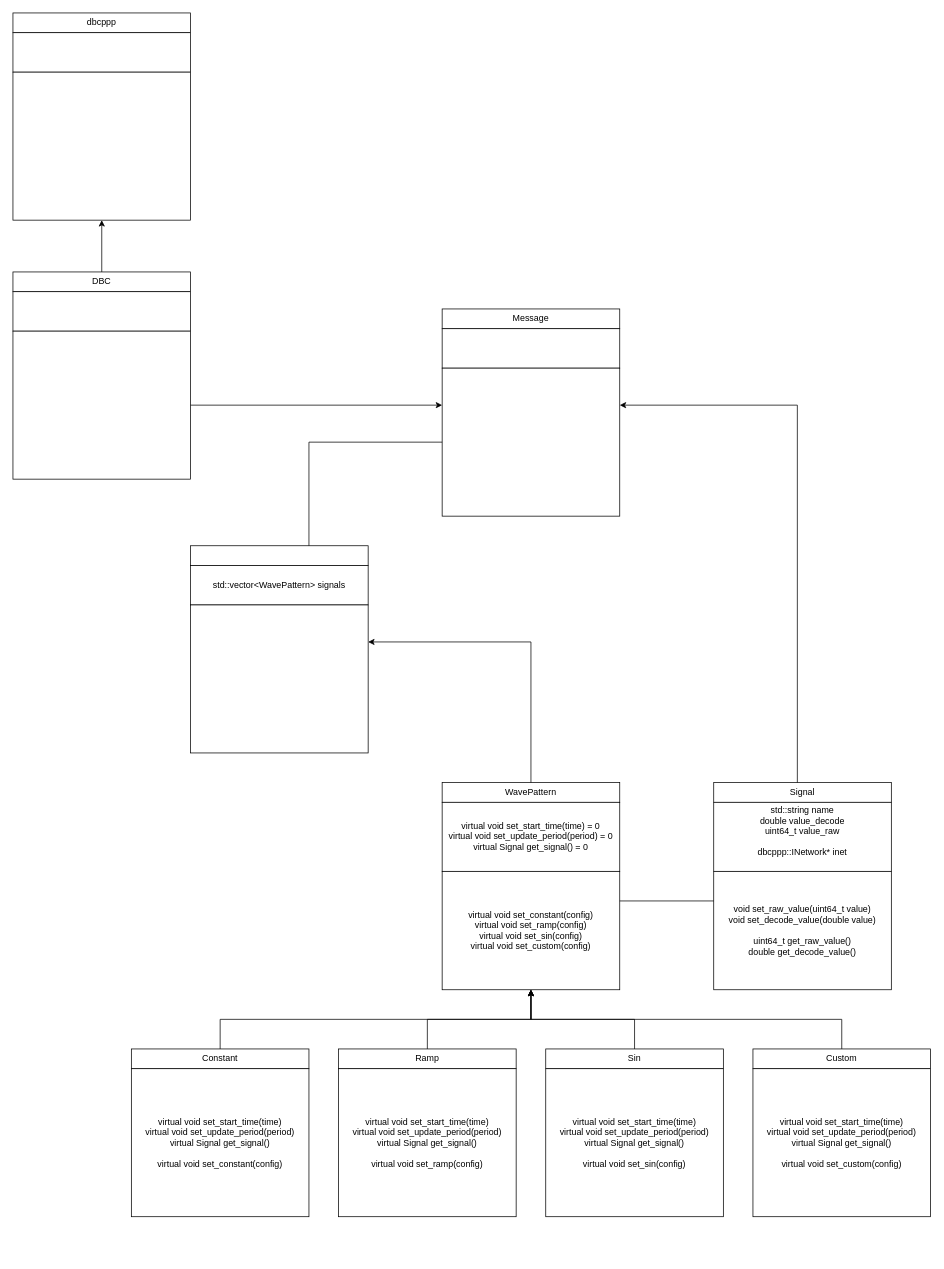
The diagram is 944 pixels wide and 1269 high, and some of its shapes have lost their labels. Each missing label, with the centre of its shape:
void set_start_time(time) void set_update_time(period) Message get_message(): the point at 279,678
WaveMessage: the point at 279,555
